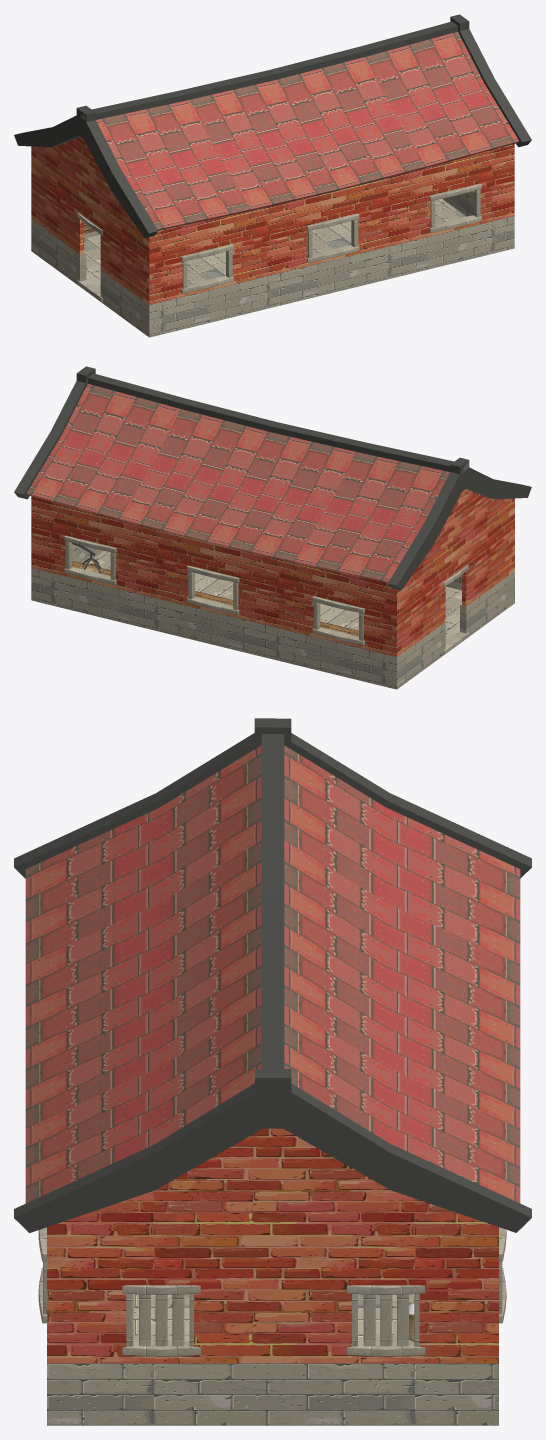
The model's file is House.fbx.
3 renders of one model, top to bottom at view 1: azimuth 30°, elevation 25°; view 2: azimuth 150°, elevation 25°; view 3: azimuth 270°, elevation 25°, orthographic. The views are drawn at different scales.
Parts seen in each view (by area): view 1: polySurface814, polySurface829, pCube52, polySurface674, polySurface731; view 2: polySurface814, polySurface818, pCube52, polySurface674, polySurface871; view 3: polySurface814, polySurface731, polySurface674.
Boxes of the visible parts, x1=… form: polySurface814: x1=14, y1=14, x2=531, y2=238; polySurface829: x1=149, y1=144, x2=514, y2=337; pCube52: x1=31, y1=137, x2=149, y2=336; polySurface674: x1=84, y1=199, x2=507, y2=335; polySurface731: x1=442, y1=191, x2=473, y2=216; polySurface814: x1=14, y1=366, x2=531, y2=590; polySurface818: x1=31, y1=496, x2=396, y2=689; pCube52: x1=397, y1=489, x2=514, y2=689; polySurface674: x1=45, y1=551, x2=461, y2=688; polySurface871: x1=72, y1=543, x2=358, y2=636; polySurface814: x1=14, y1=718, x2=531, y2=1232; polySurface731: x1=47, y1=1128, x2=498, y2=1425; polySurface674: x1=133, y1=1294, x2=414, y2=1341.
Bounding box in the file's own units: 831 × 385 × 506.
